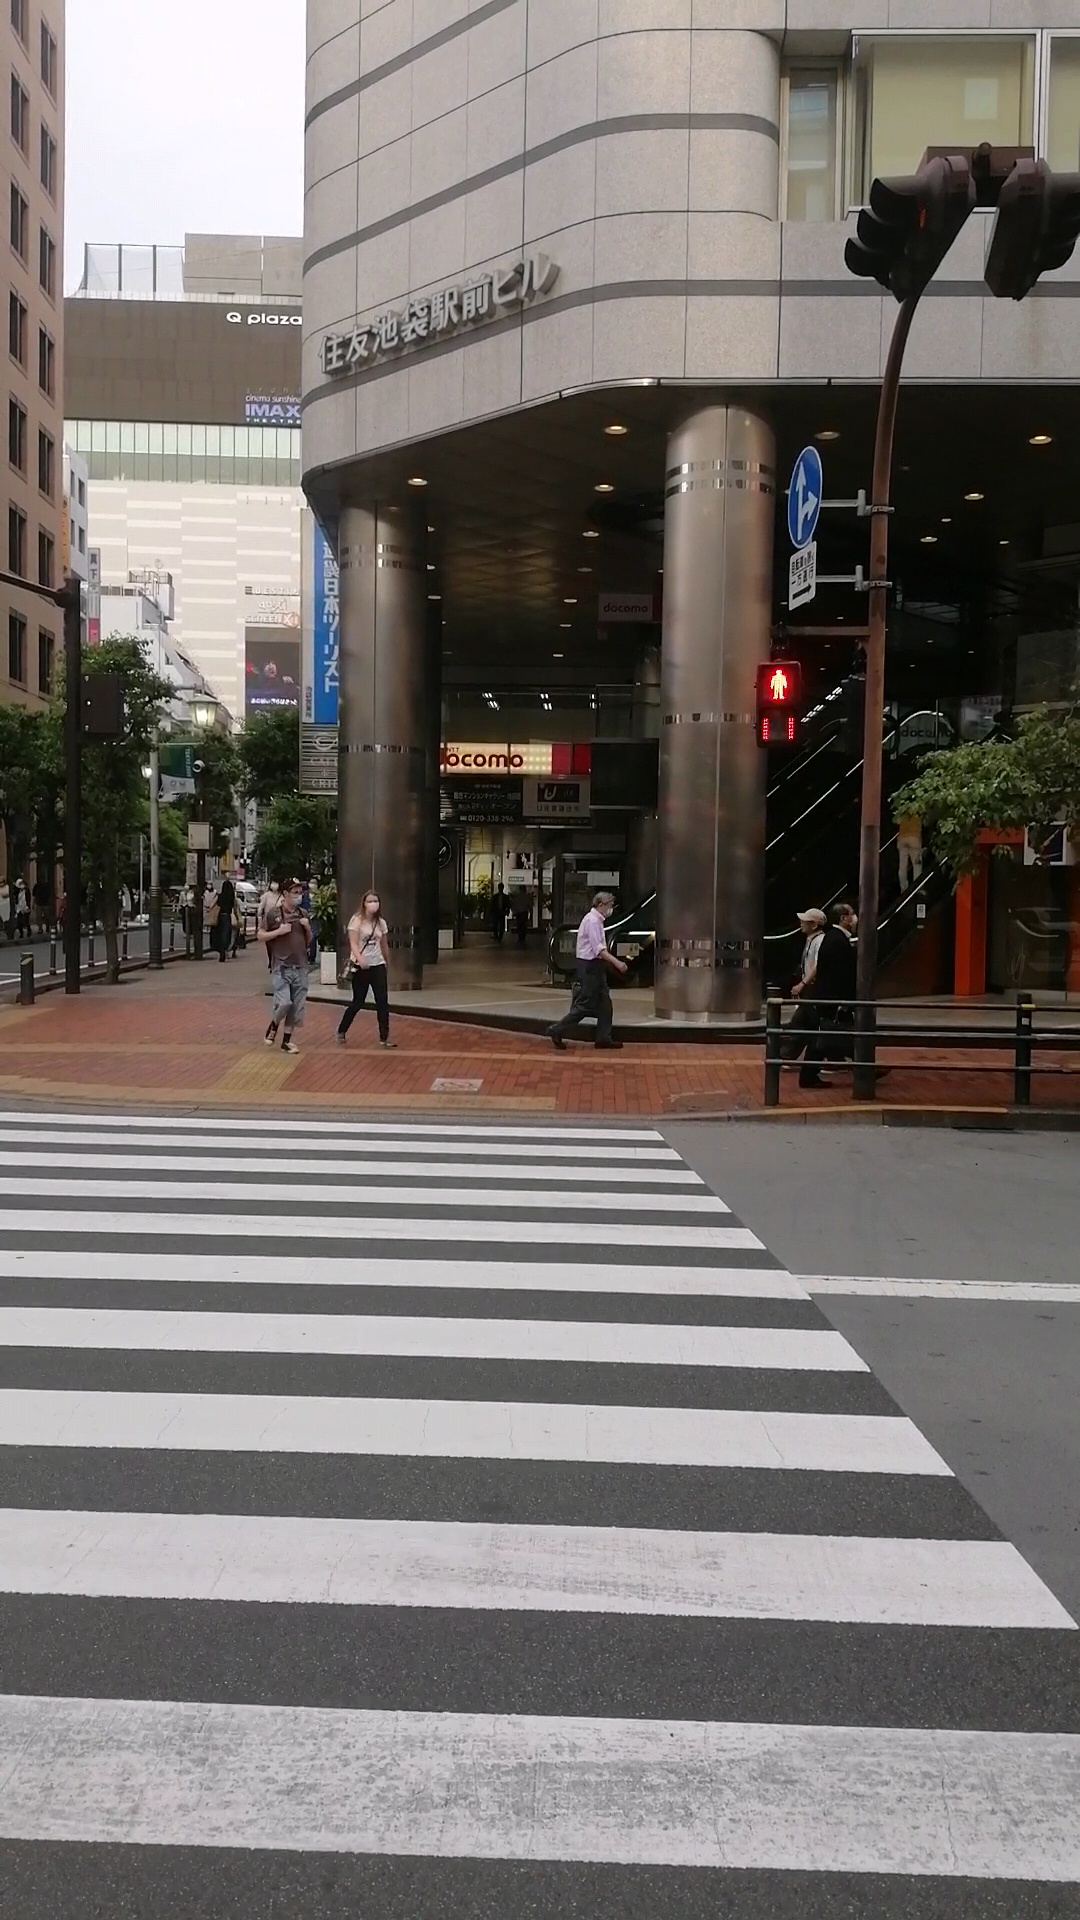red: (756, 661, 800, 746)
